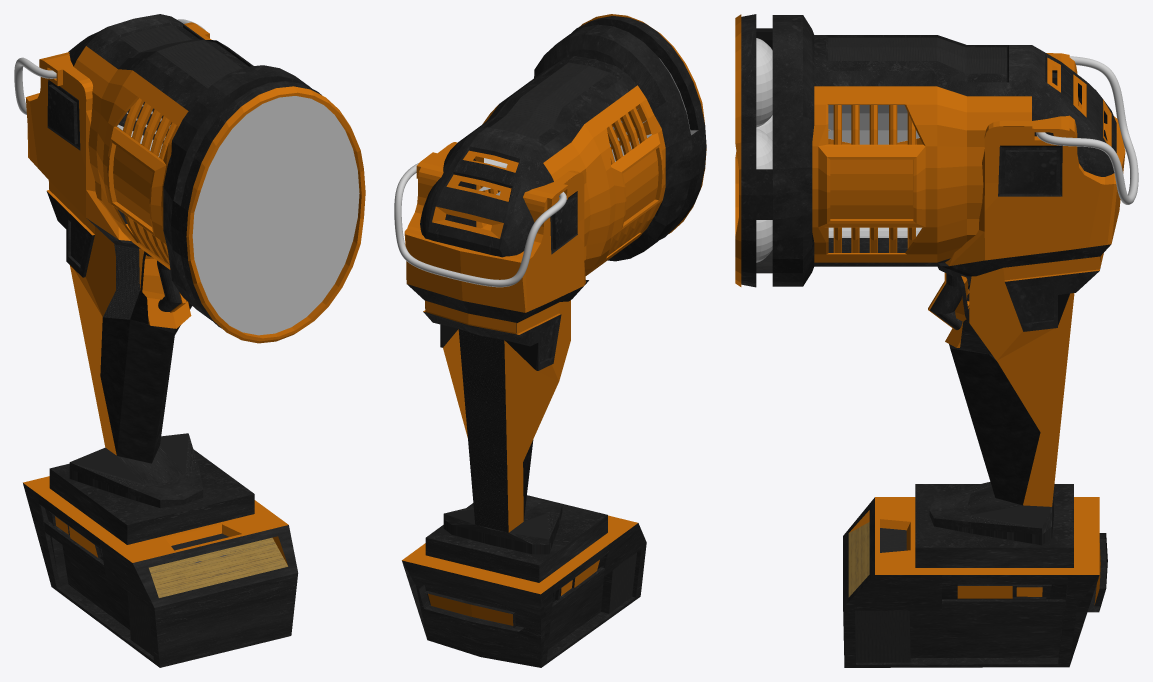
File: uploads_files_3128481_1.obj
3 renders of one model, left to right at view 1: azimuth 30°, elevation 25°; view 2: azimuth 150°, elevation 25°; view 3: azimuth 270°, elevation 25°, orthographic. The views are drawn at different scales.
Parts seen in each view (by area): view 1: Куб, ТраекторияNurbs, Цилиндр.003_Цилиндр; view 2: Куб, ТраекторияNurbs; view 3: Куб, ТраекторияNurbs, Цилиндр.003_Цилиндр.
Part boxes in pixels (left/top/right/bottom): Куб: left=23, top=14, right=365, bottom=667; ТраекторияNurbs: left=14, top=19, right=205, bottom=114; Цилиндр.003_Цилиндр: left=157, top=260, right=186, bottom=312; Куб: left=402, top=14, right=706, bottom=667; ТраекторияNurbs: left=394, top=163, right=566, bottom=287; Куб: left=735, top=14, right=1125, bottom=667; ТраекторияNurbs: left=1036, top=56, right=1138, bottom=204; Цилиндр.003_Цилиндр: left=928, top=273, right=994, bottom=358.
Size of the model in its own units: 1.48 by 4.74 by 2.82.
